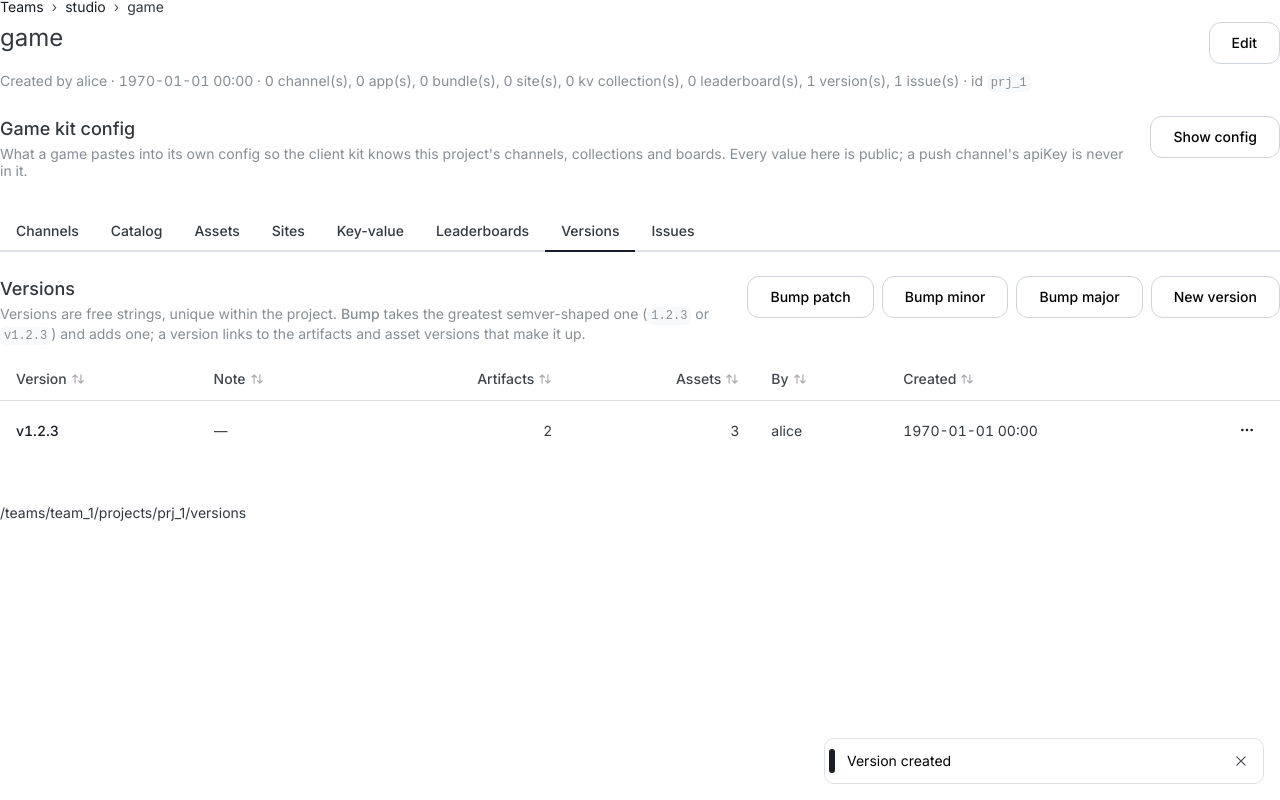
Test: ProjectPage › says a deleted version's issues drop the reference
The image size is (1280, 800).
Expected: the link "v1.2.3" is shown, [16,422,59,439]
Click the button named "Actions for v1.2.3".
click(1247, 430)  # box [1230,413,1264,447]
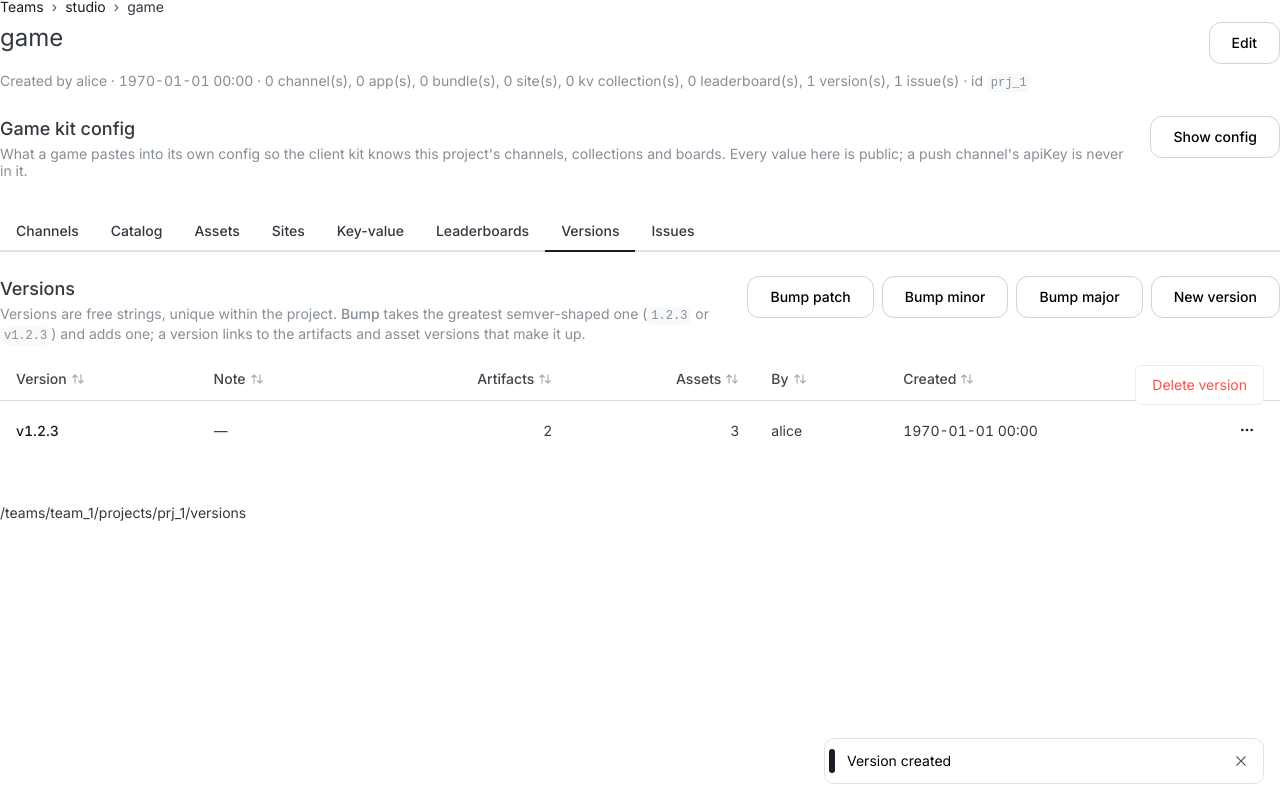
Click the menu item "Delete version".
click(1200, 385)  # box [1140,370,1259,400]
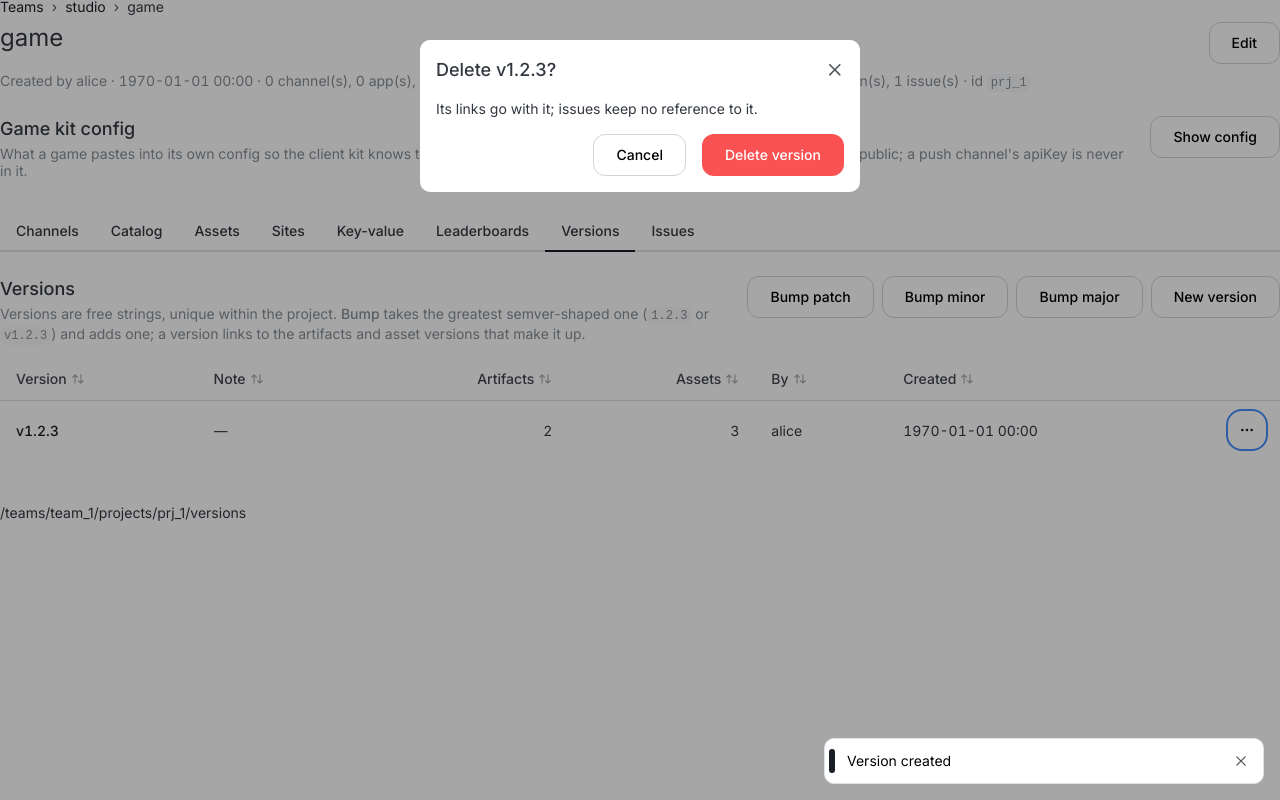
Expected: the text "Its links go with it; issues keep no reference to it." is shown, [436,100,758,117]
